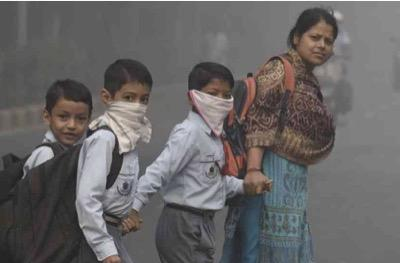with_mask: (200, 85, 235, 120), (115, 88, 149, 123)
without_mask: (50, 107, 91, 146), (300, 30, 334, 66)
